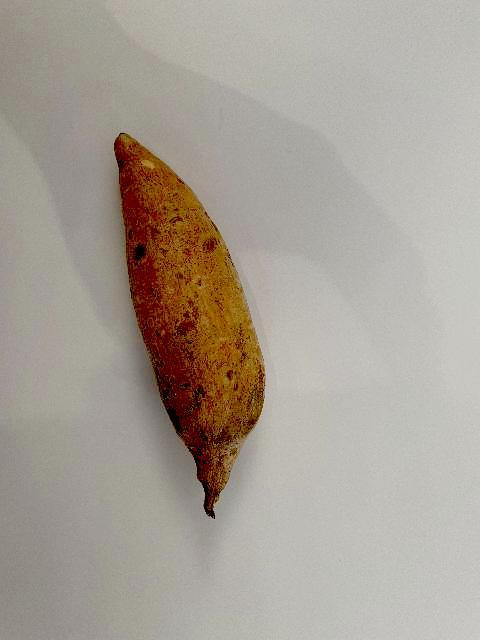sweetpotato: (112, 128, 268, 522)
